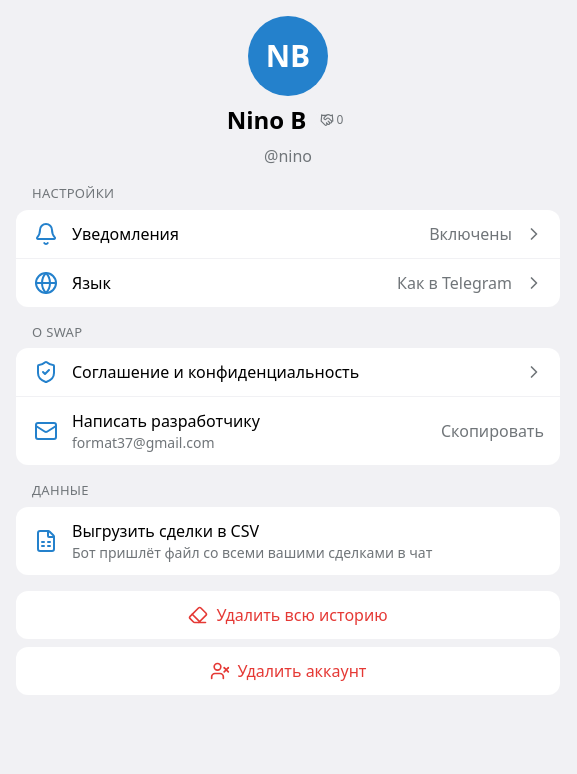
deleting (K2) › says why an account with a running deal stays
Click the button "Удалить аккаунт".
click(288, 670)  # box left=16, top=646, right=560, bottom=694
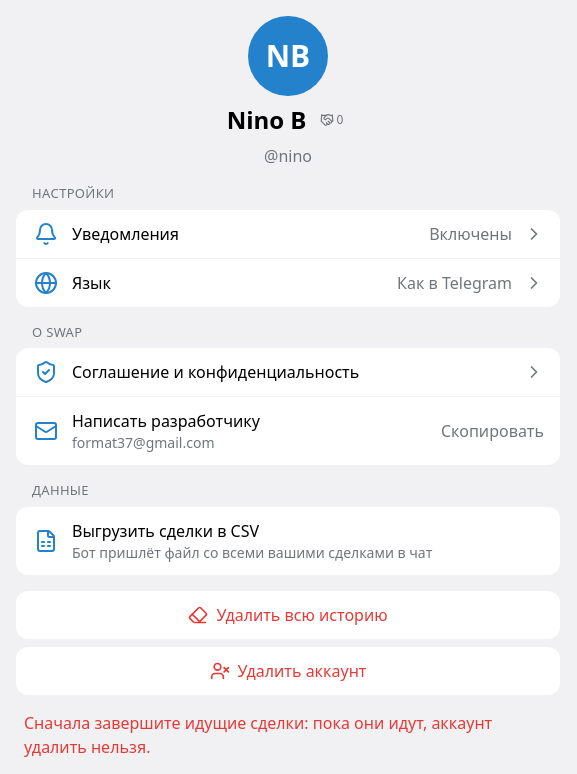
expect the text "Сначала завершите идущие сделки: пока они идут, аккаунт удалить нельзя." is shown: met, box left=24, top=712, right=492, bottom=758
